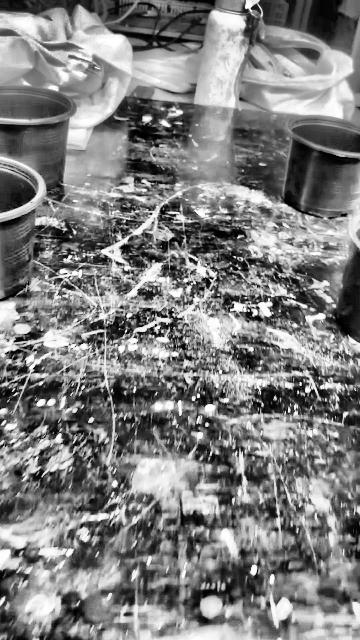pot: (0, 85, 75, 220), (284, 115, 360, 220), (0, 157, 45, 300), (335, 213, 359, 342)
